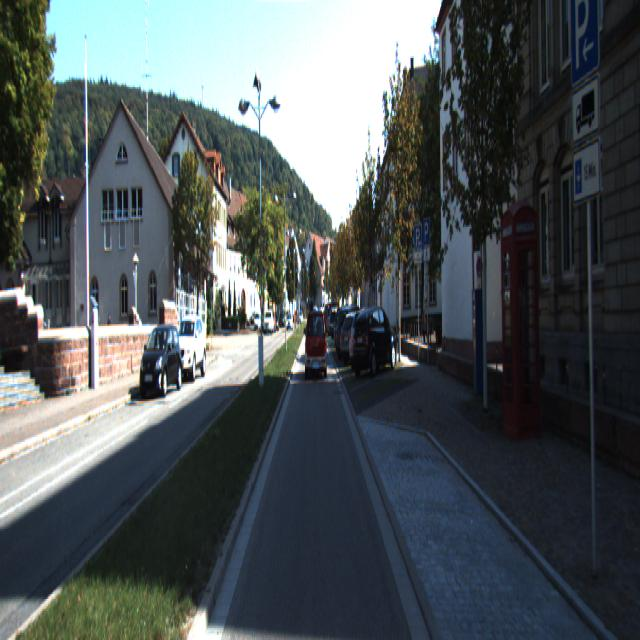Car: (352, 305, 399, 379), (140, 327, 184, 400), (348, 310, 392, 374), (170, 317, 207, 386), (338, 310, 382, 364), (336, 307, 372, 362), (306, 308, 328, 378)
